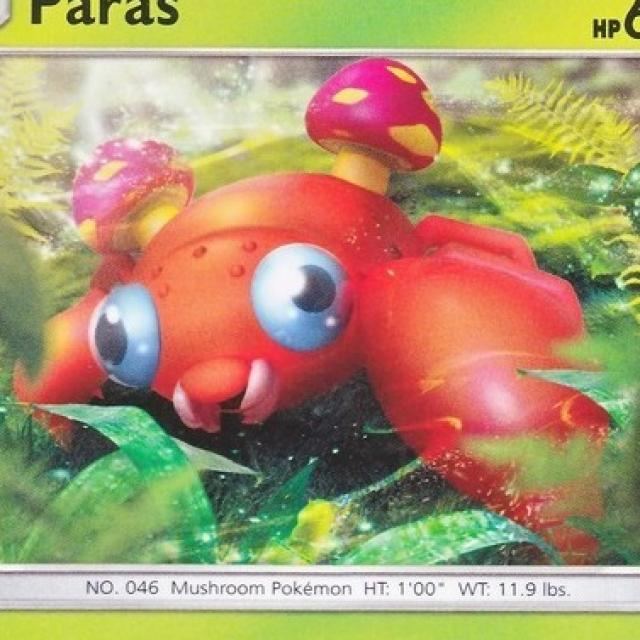Paras: (48, 62, 567, 434)
